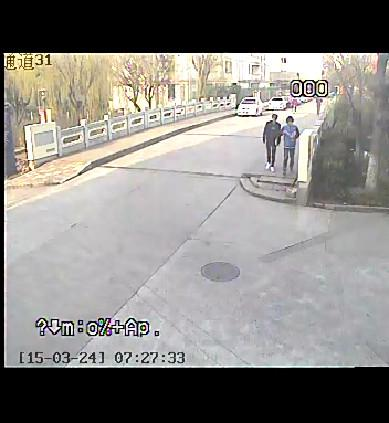person: (276, 111, 306, 172), (262, 105, 280, 176)
